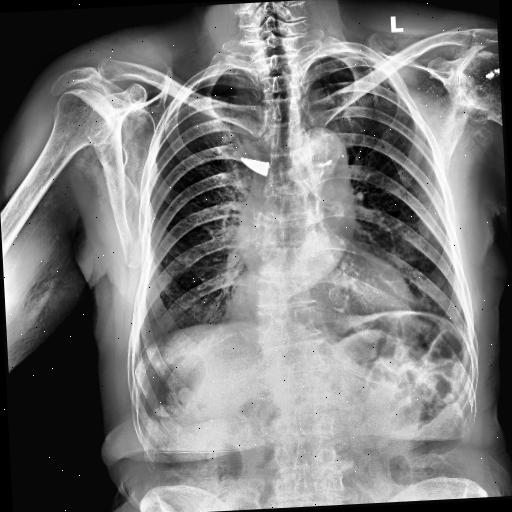0- Aortic enlargement: (228, 122, 350, 248), (285, 124, 351, 182), (299, 128, 351, 186)
3- Cardiomegaly: (230, 267, 416, 327)
7- Lung Opacity: (240, 154, 271, 179)
9- Other lesion: (442, 46, 502, 123), (410, 62, 502, 99), (226, 268, 256, 319), (240, 154, 271, 179), (241, 156, 268, 178)
